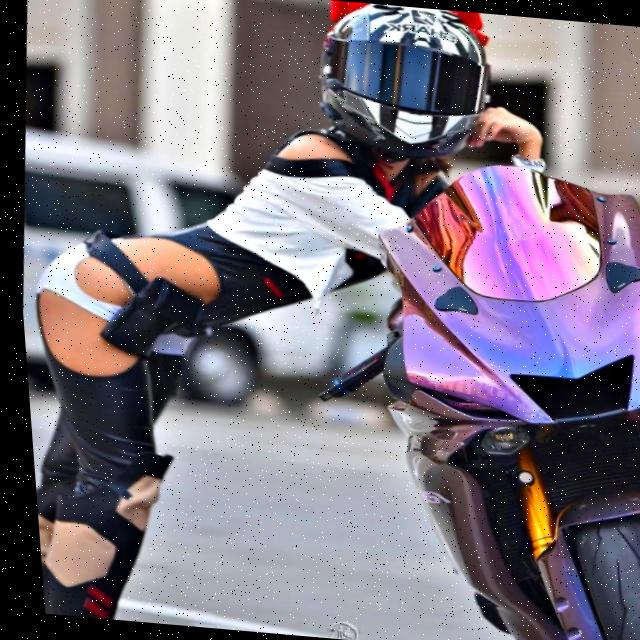helmet: (302, 0, 505, 172)
